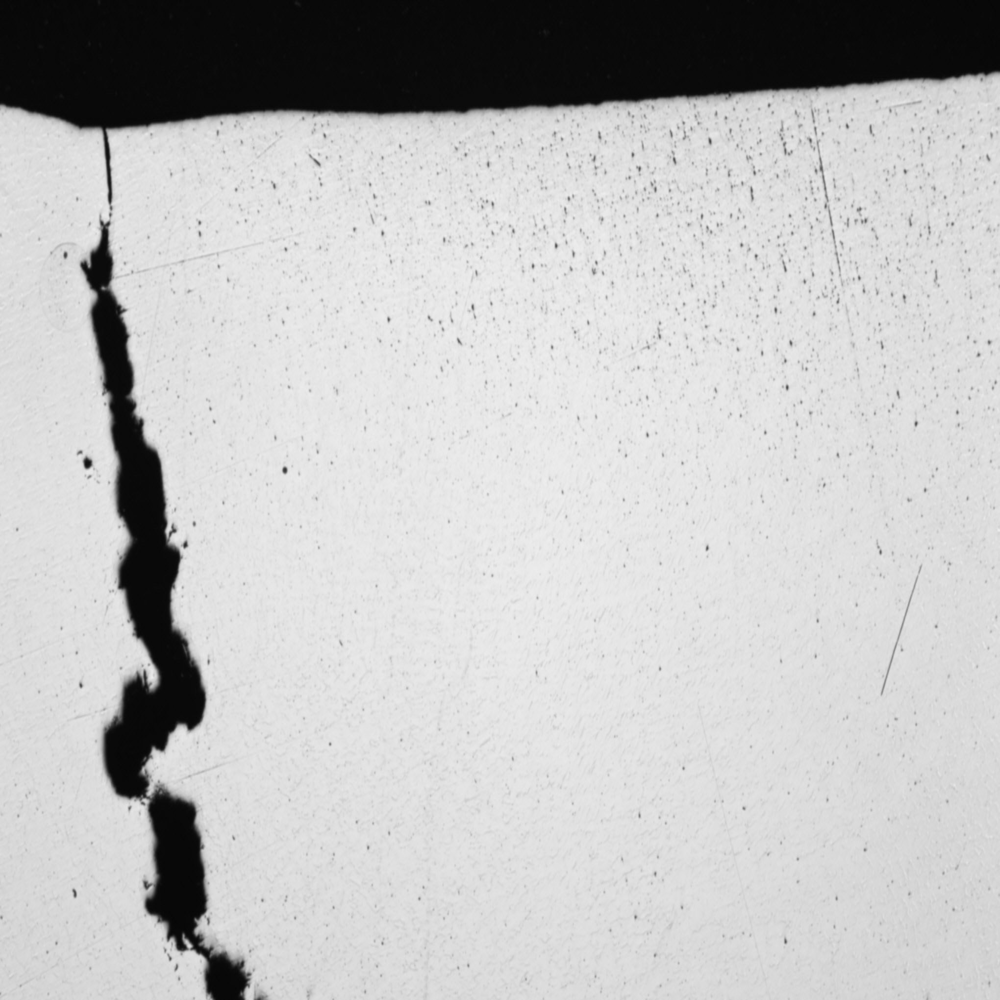crack: (43, 120, 287, 1000)
